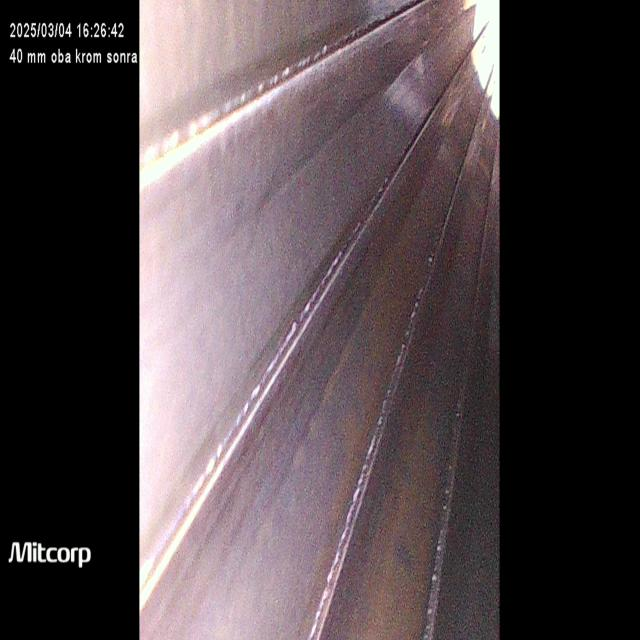hata_8.2: (288, 104, 473, 640), (332, 308, 473, 640)
